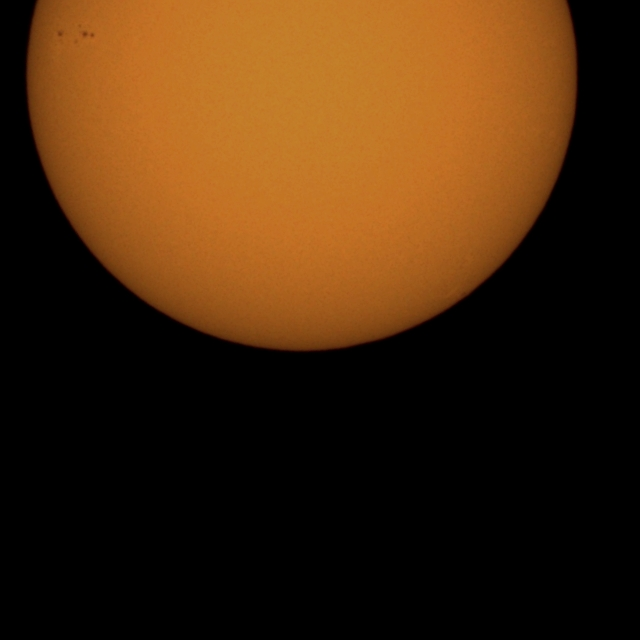sunspot: (56, 22, 95, 46), (56, 29, 66, 39)
